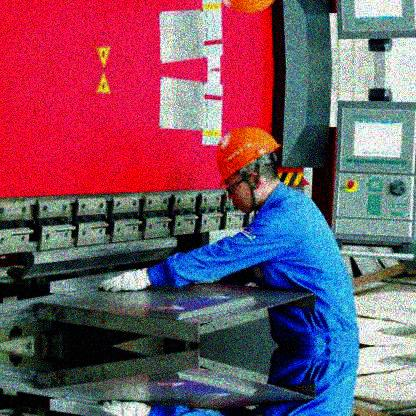helmet: (216, 127, 283, 214)
